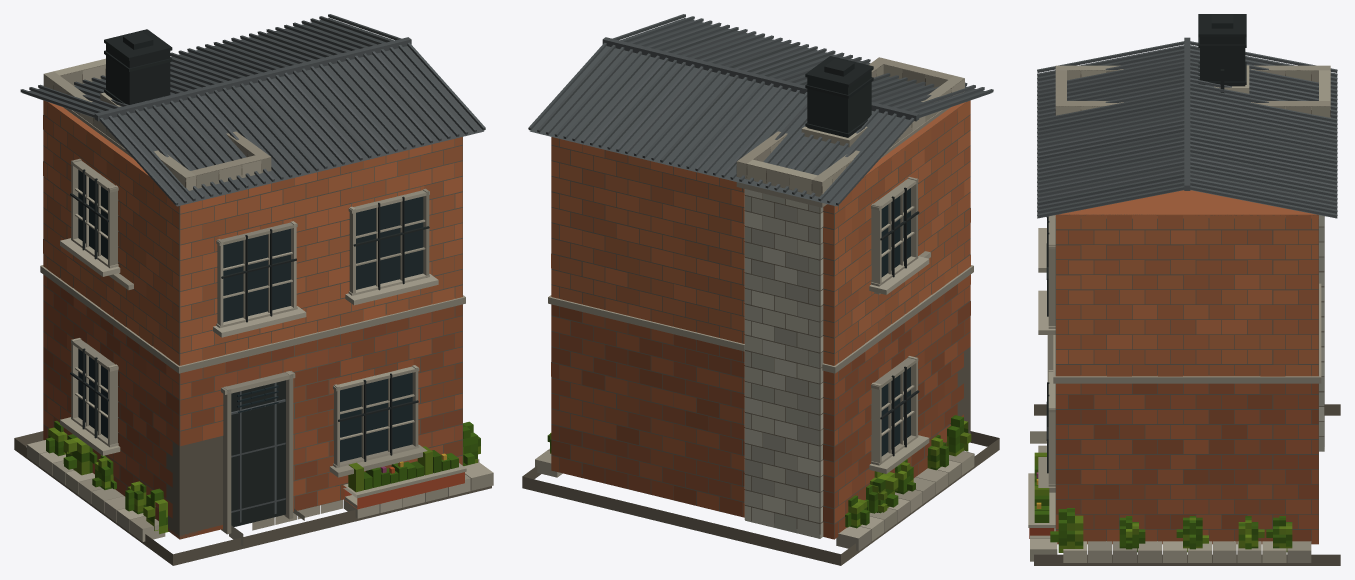
File: SM_StreetFrontage_101.fbx
The picture shows the model from 3 angles, left to right: view 1: azimuth 30°, elevation 25°; view 2: azimuth 150°, elevation 25°; view 3: azimuth 270°, elevation 25°; orthographic projection. The views are drawn at different scales.
Visible parts, largest first — view 1: SM_StreetFrontage_101; view 2: SM_StreetFrontage_101; view 3: SM_StreetFrontage_101.
Part boxes in pixels (x1,y1,x2,y2): SM_StreetFrontage_101: (14,14,493,565); SM_StreetFrontage_101: (522,14,999,565); SM_StreetFrontage_101: (1028,14,1340,565).
Size of the model in its own units: 8 by 6.84 by 10.3.
